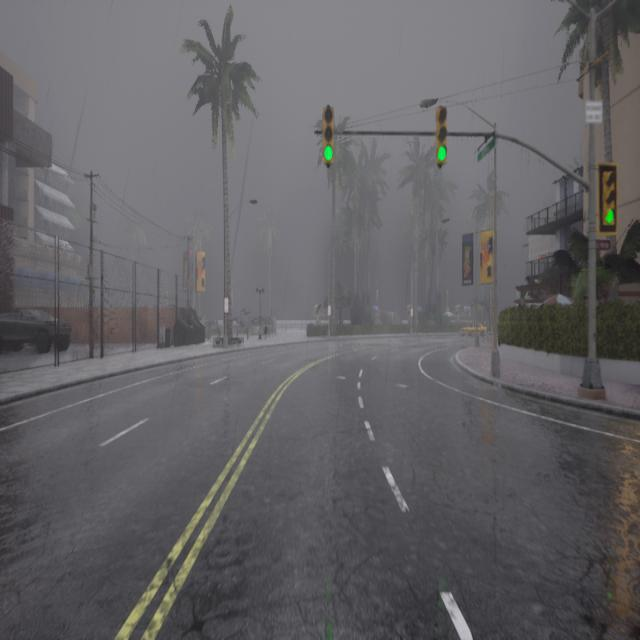9: (597, 162, 620, 239), (318, 101, 338, 175), (434, 106, 450, 172)
bien_hieu_lenh: (602, 204, 615, 232), (323, 140, 335, 168), (435, 140, 448, 163)
